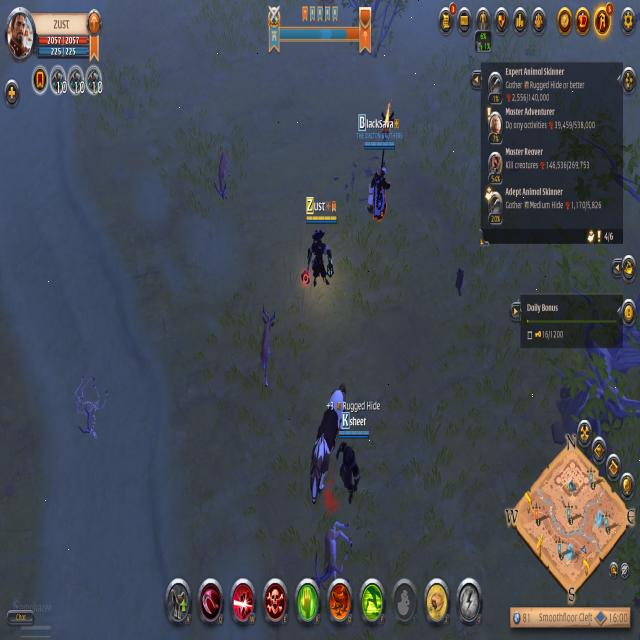deer_alive: (250, 304, 288, 396), (207, 147, 240, 208)
